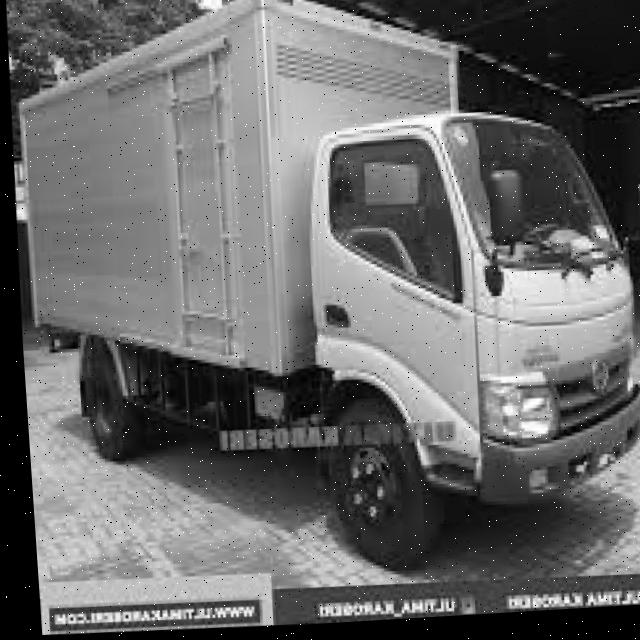truck: (259, 74, 640, 546)
